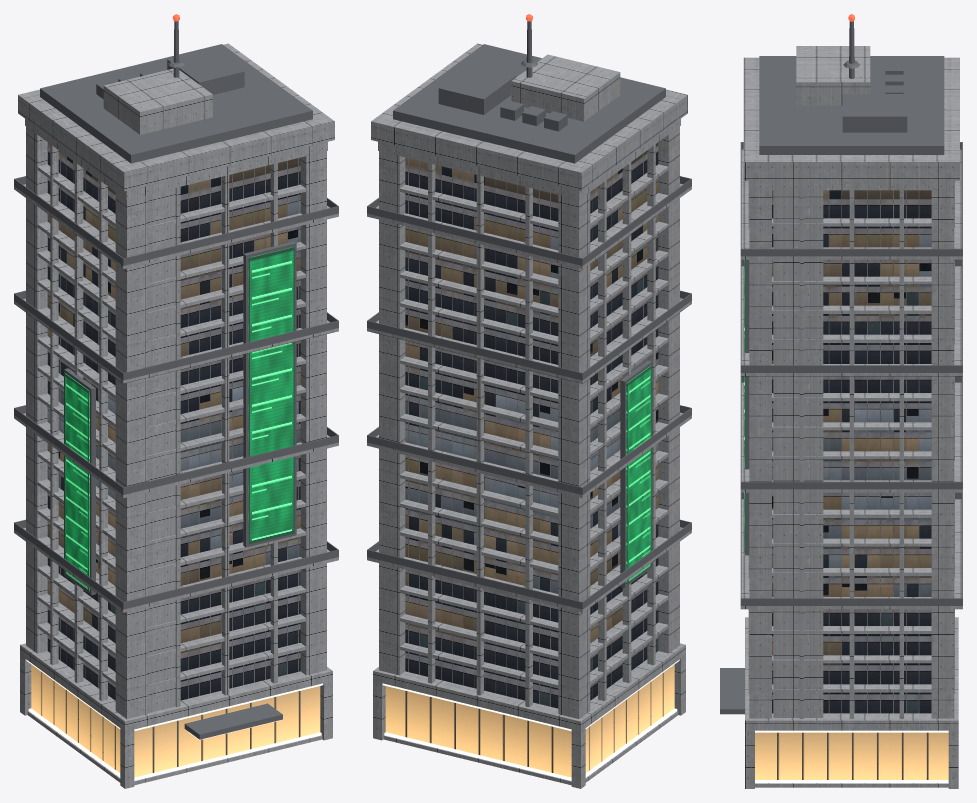
Rendered from towerC.glb.
3 renders of one model, left to right at view 1: azimuth 30°, elevation 25°; view 2: azimuth 150°, elevation 25°; view 3: azimuth 270°, elevation 25°, orthographic.
Parts seen in each view (by area): view 1: towerC; view 2: towerC; view 3: towerC.
Boxes of the visible parts, x1=… form: towerC: x1=14, y1=14, x2=338, y2=788; towerC: x1=367, y1=14, x2=691, y2=788; towerC: x1=720, y1=14, x2=962, y2=788.
Bounding box in the file's own units: 31.53 × 99.35 × 30.24.
7 materials, 2 textured.
